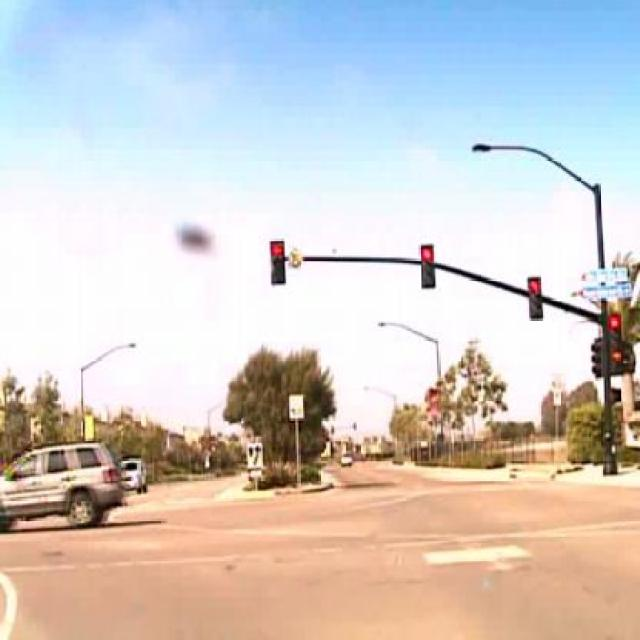keepRight: (246, 442, 262, 468)
speedLimitUrdbl: (289, 394, 305, 419)
